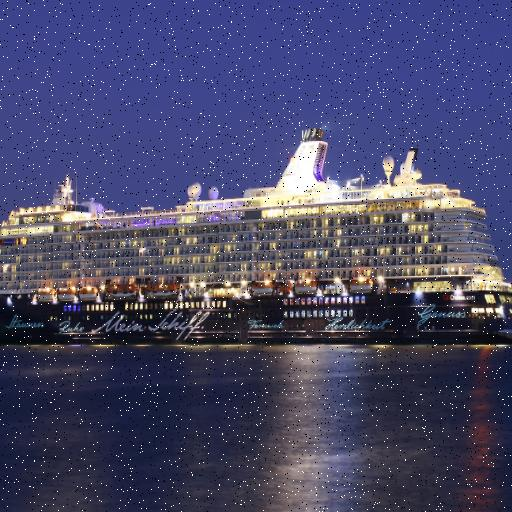cruises: (1, 115, 512, 347)
